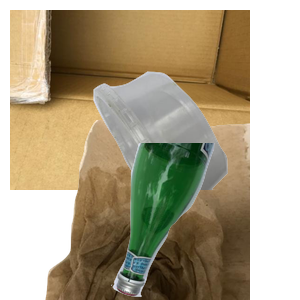cardboard: (10, 10, 250, 190)
glass: (109, 143, 300, 300)
plastic: (91, 69, 300, 249)
trash: (43, 120, 283, 300)
